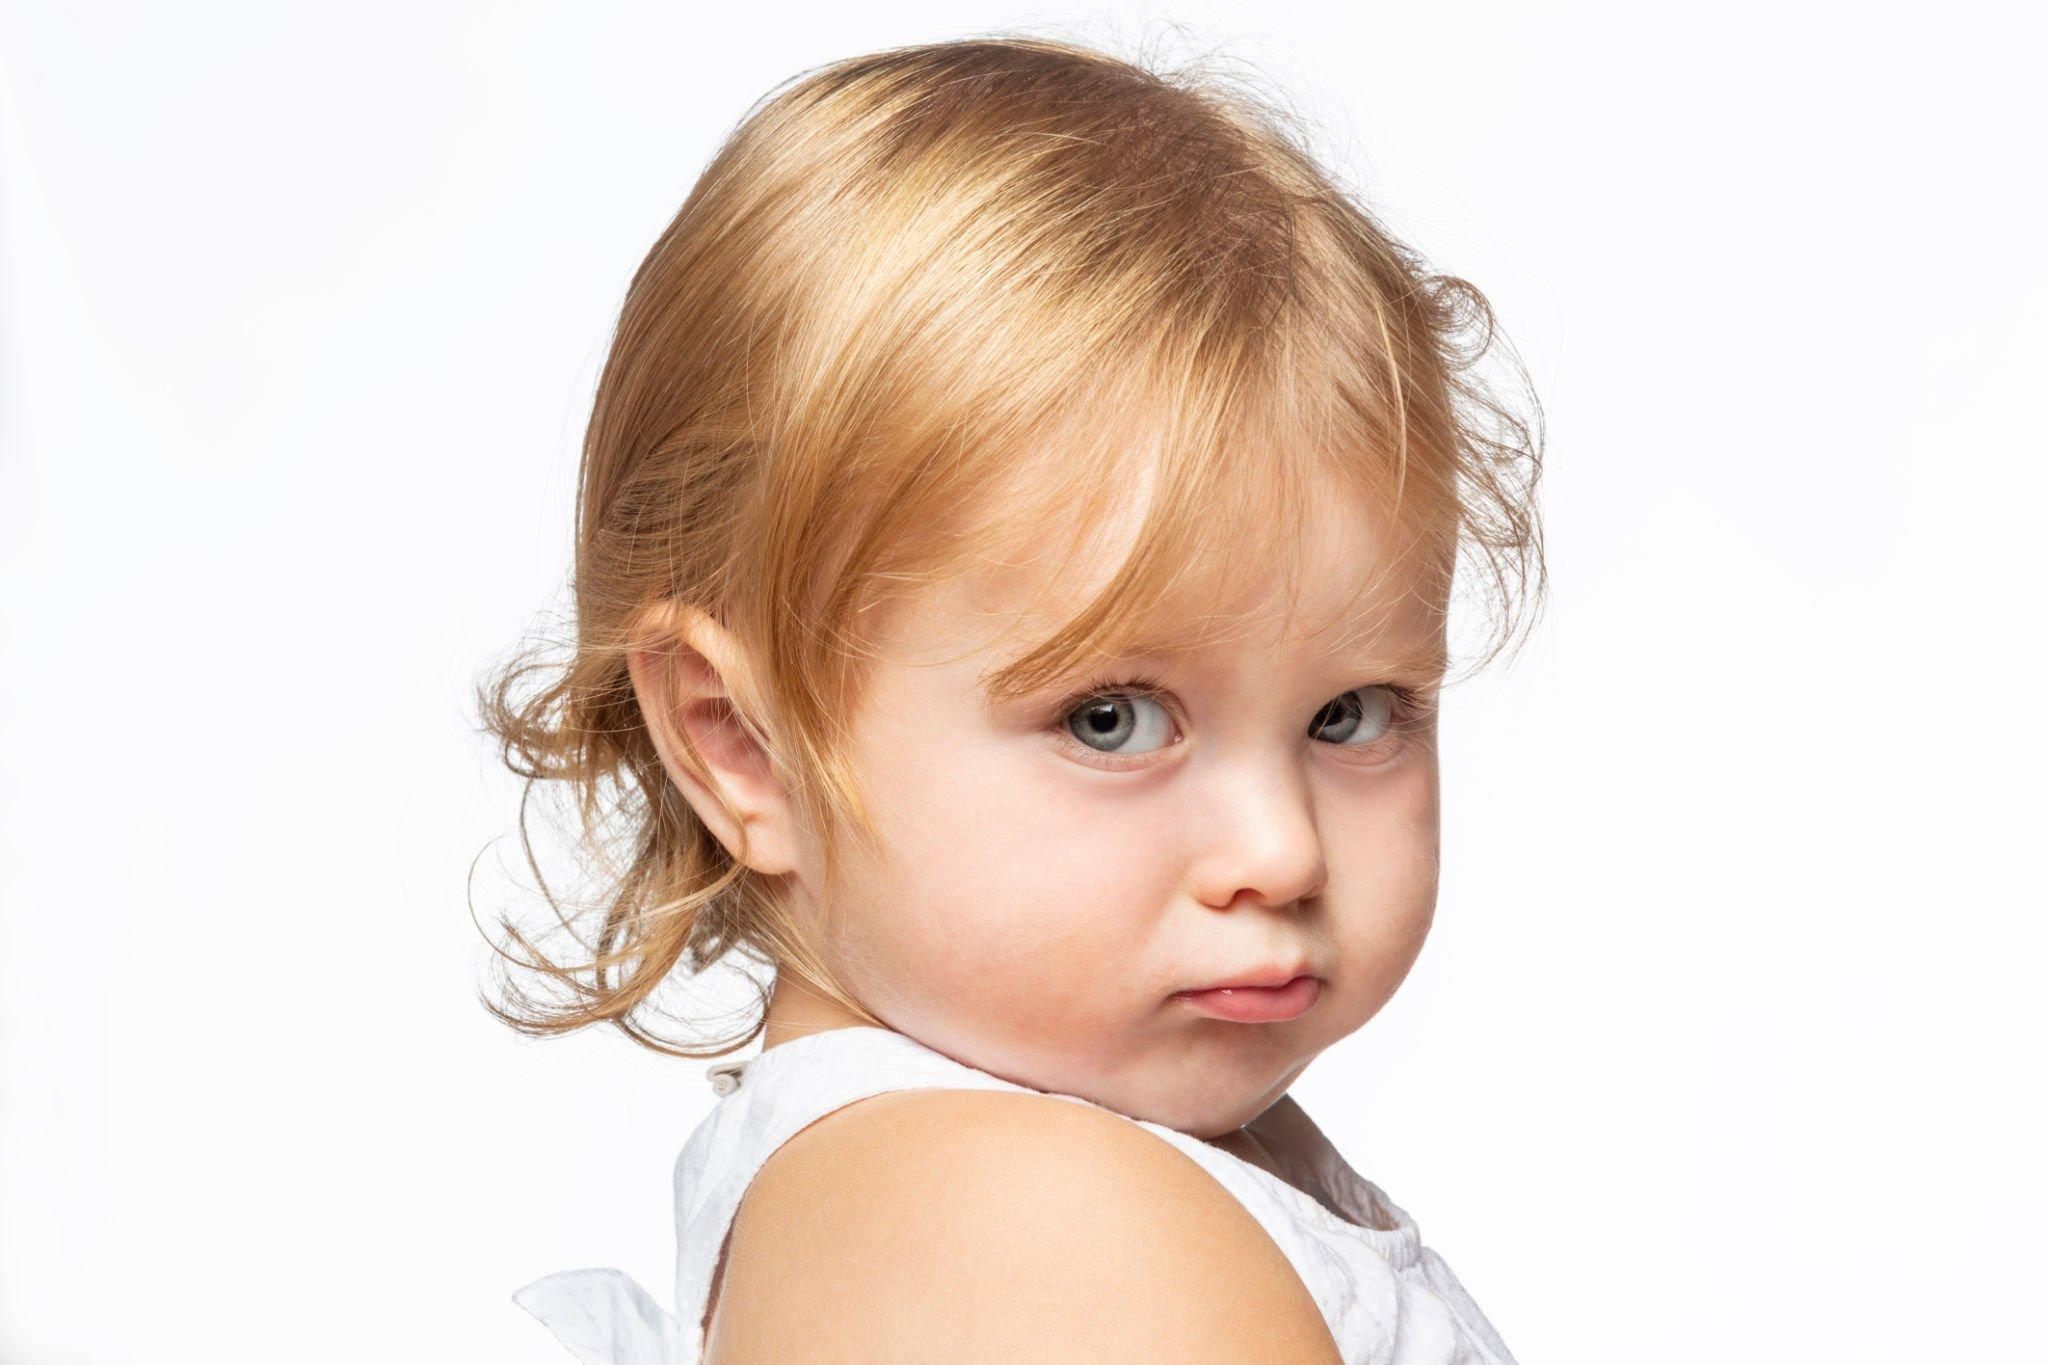Healthy: (807, 276, 1549, 1150)
